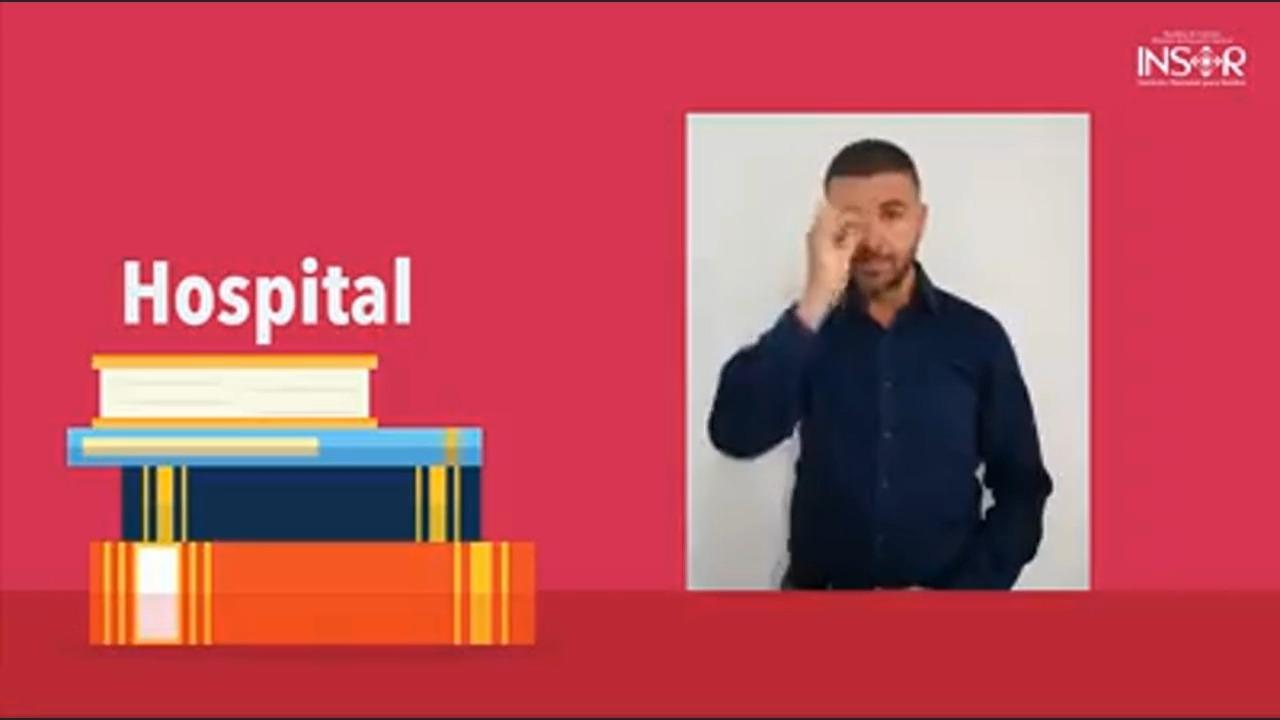Hospital: (700, 128, 1066, 463)
